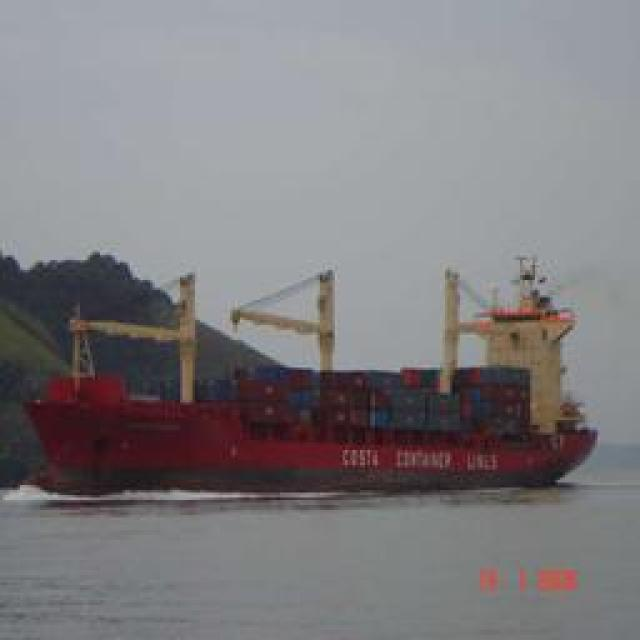CIV_Ship: (10, 291, 598, 494)
